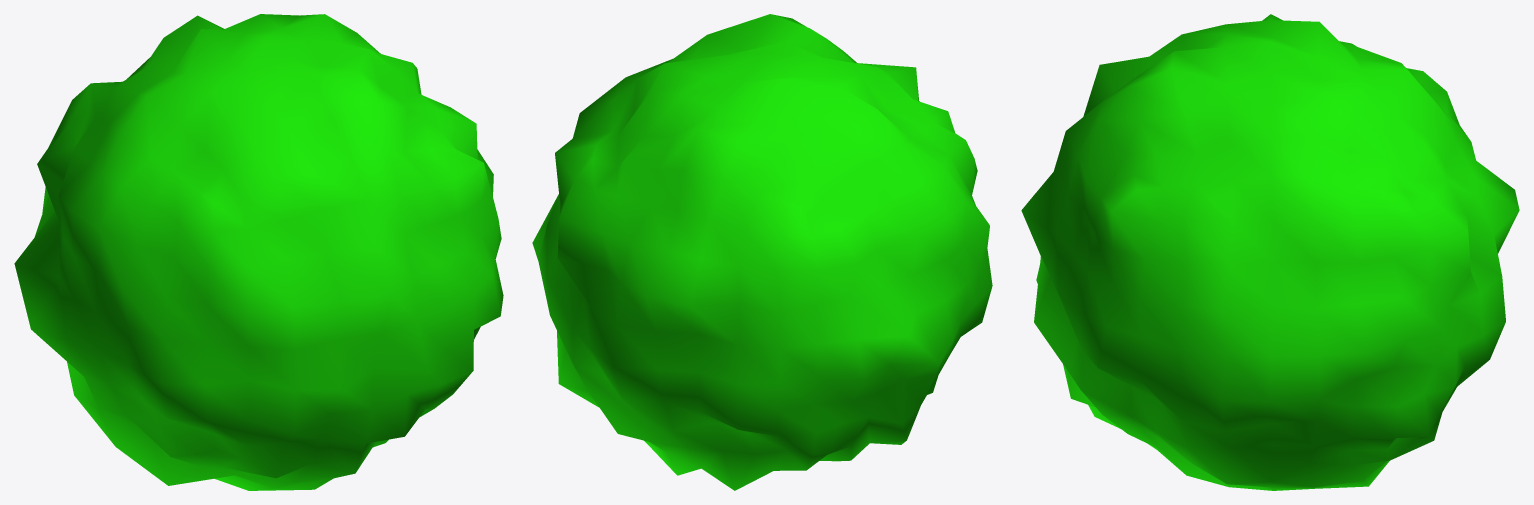
Rendered from peppercorn.fbx.
3 views of the same model, side by side, from view 1: azimuth 30°, elevation 25°; view 2: azimuth 150°, elevation 25°; view 3: azimuth 270°, elevation 25° (orthographic). The views are drawn at different scales.
Visible parts, largest first — view 1: Peppercorn; view 2: Peppercorn; view 3: Peppercorn.
Part boxes in pixels (x1,y1,x2,y2): Peppercorn: (14,14,503,490); Peppercorn: (532,14,992,490); Peppercorn: (1021,14,1519,490).
Size of the model in its own units: 153 by 150 by 158.
